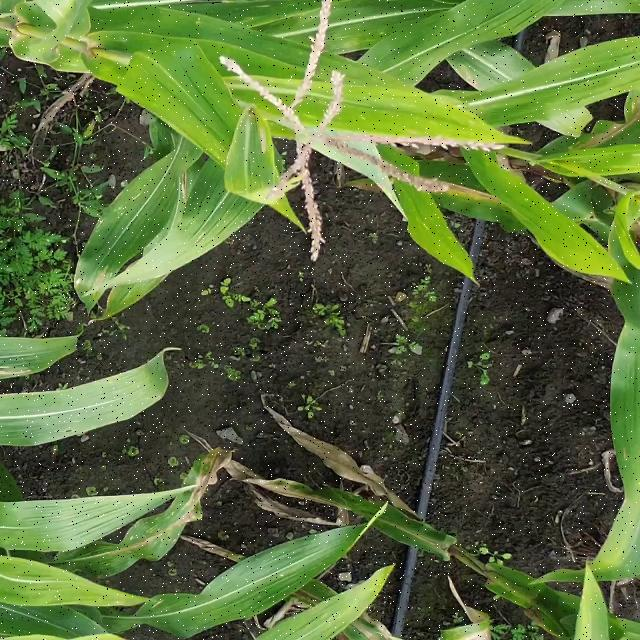southern-leaf-blight: (116, 27, 488, 144), (67, 459, 229, 582), (64, 182, 163, 316)
